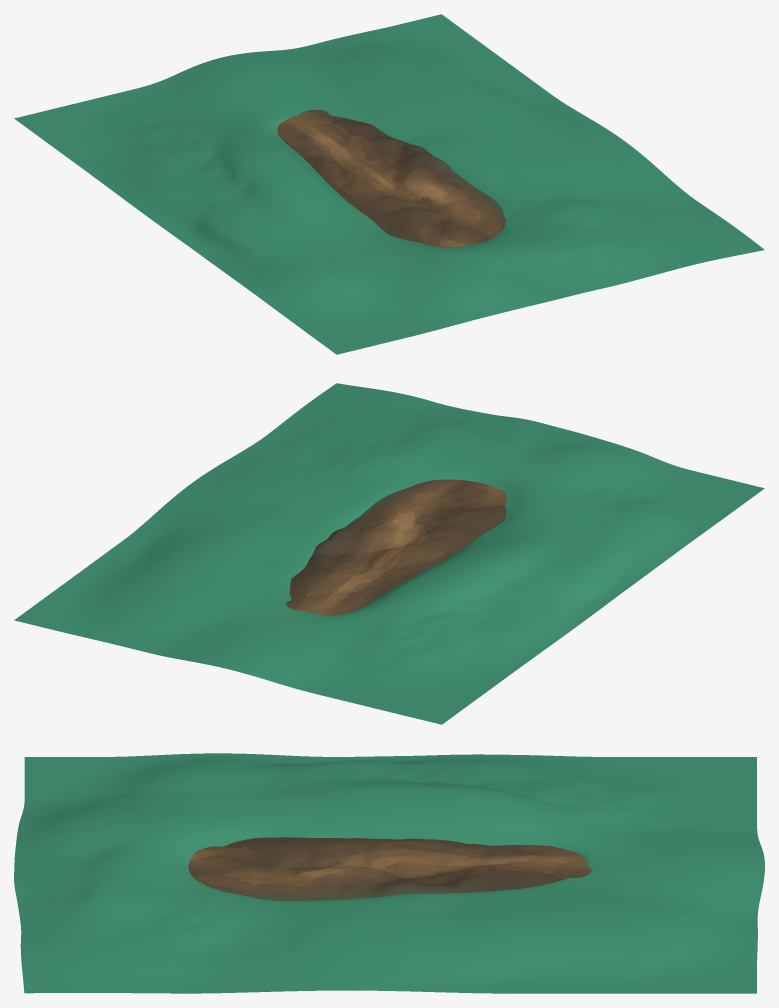
Rendered from orchardbase.glb.
3 views of the same model, one above another, from view 1: azimuth 30°, elevation 25°; view 2: azimuth 150°, elevation 25°; view 3: azimuth 270°, elevation 25° (orthographic). The views are drawn at different scales.
Visible parts, largest first — view 1: Landscape, Landscape.001; view 2: Landscape, Landscape.001; view 3: Landscape, Landscape.001.
Part boxes in pixels (box(x1,y1,x2,y2)): Landscape: box(14, 14, 764, 354); Landscape.001: box(277, 109, 505, 246); Landscape: box(14, 383, 764, 724); Landscape.001: box(286, 479, 507, 615); Landscape: box(14, 753, 764, 993); Landscape.001: box(188, 837, 591, 900).
Size of the model in its own units: 6.74 by 0.916 by 8.94.
Materials: 2 (1 with a texture image).
